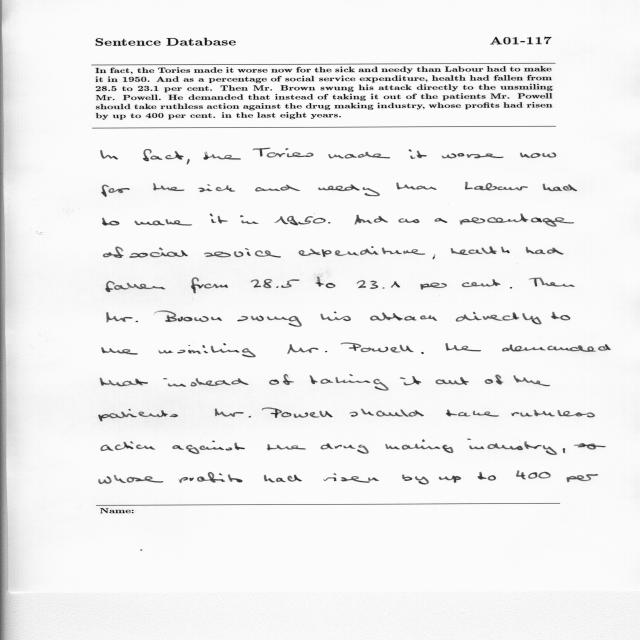word: (460, 214, 574, 227), (158, 343, 256, 358), (467, 439, 557, 455), (299, 246, 426, 257), (310, 374, 389, 391), (456, 312, 541, 324), (172, 441, 245, 454), (99, 409, 178, 421), (386, 440, 454, 453), (502, 344, 611, 352), (237, 315, 302, 327), (163, 378, 249, 387), (204, 248, 281, 258), (154, 311, 222, 322), (318, 185, 380, 197), (341, 343, 414, 353), (262, 408, 333, 418), (179, 472, 243, 483), (511, 410, 595, 418), (129, 247, 188, 258), (106, 281, 165, 292), (371, 312, 438, 321), (253, 148, 313, 158), (349, 409, 424, 417), (191, 277, 228, 293), (99, 475, 163, 484), (465, 182, 528, 191), (323, 473, 379, 483), (101, 441, 155, 451), (451, 246, 510, 255), (321, 443, 369, 454), (274, 216, 326, 226), (462, 279, 512, 289), (143, 149, 184, 161), (251, 279, 300, 288), (328, 152, 390, 159), (100, 378, 148, 387), (529, 278, 575, 287), (287, 344, 327, 354), (514, 376, 550, 387), (357, 280, 400, 289), (446, 410, 499, 417), (135, 219, 192, 225), (107, 312, 138, 323), (354, 215, 388, 225), (102, 185, 130, 197), (396, 182, 437, 190), (215, 409, 251, 418), (255, 185, 300, 192), (442, 153, 503, 158), (203, 152, 241, 160), (526, 247, 564, 255), (264, 475, 302, 483), (198, 184, 235, 192), (101, 347, 138, 355), (446, 343, 482, 351), (516, 471, 551, 479), (320, 312, 351, 321), (269, 374, 294, 385), (435, 377, 469, 385), (402, 475, 429, 485), (103, 246, 124, 258), (153, 183, 184, 191), (567, 474, 598, 482), (543, 184, 577, 191), (267, 444, 306, 450), (574, 443, 606, 450), (316, 277, 336, 288), (485, 375, 504, 385), (420, 283, 447, 290), (400, 376, 421, 385), (409, 149, 427, 159), (520, 153, 556, 158), (210, 214, 228, 224), (240, 215, 259, 224), (101, 150, 118, 160), (478, 472, 496, 481), (439, 476, 461, 483), (551, 312, 570, 320), (103, 218, 120, 226), (399, 218, 420, 223), (435, 218, 448, 223), (187, 159, 190, 165), (432, 255, 435, 260), (563, 448, 565, 453), (421, 352, 424, 354), (328, 222, 331, 223)
